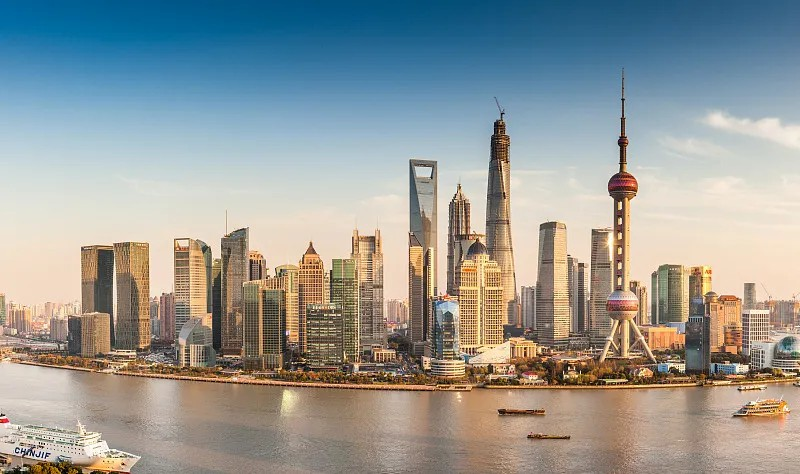Oriental: (598, 69, 656, 362)
